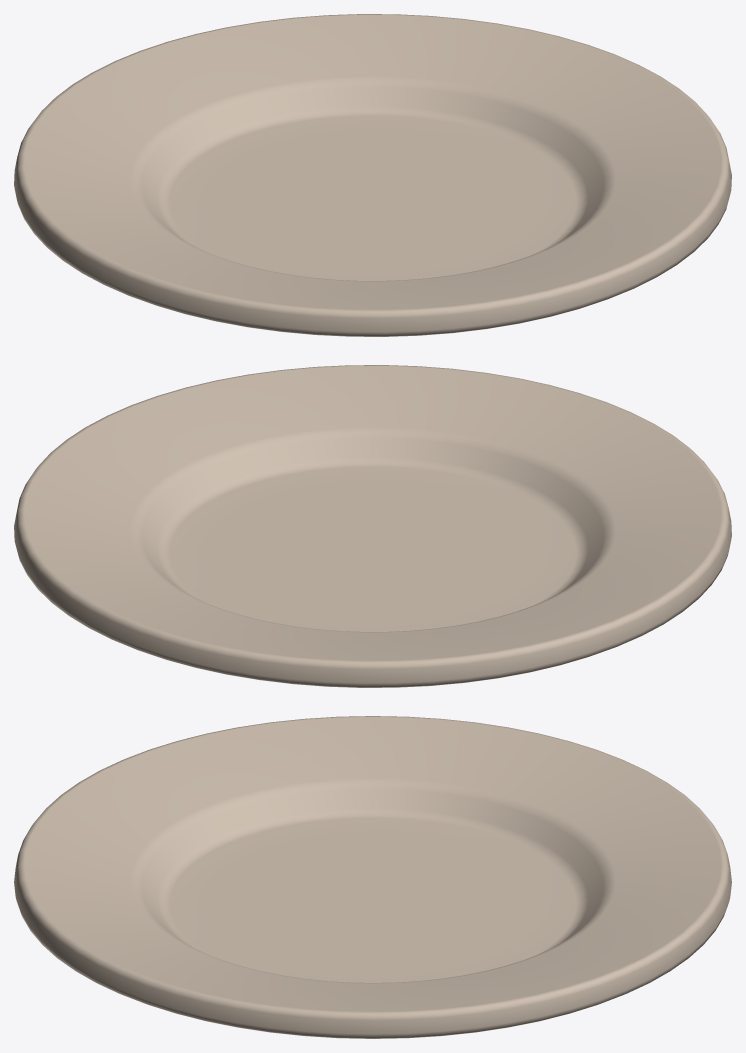
The model's file is SM_Plate_01.fbx.
3 renders of one model, top to bottom at view 1: azimuth 30°, elevation 25°; view 2: azimuth 150°, elevation 25°; view 3: azimuth 270°, elevation 25°, orthographic.
Parts seen in each view (by area): view 1: SM_Plate_01; view 2: SM_Plate_01; view 3: SM_Plate_01.
Boxes of the visible parts, x1,y1,x2,y2 form: SM_Plate_01: (14, 14, 731, 336); SM_Plate_01: (14, 365, 731, 687); SM_Plate_01: (14, 716, 731, 1038).
Size of what is drawn, in the model's own units: 60.73 by 6.09 by 60.73.
